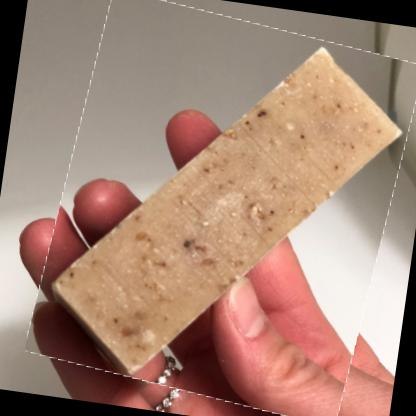soap: (28, 0, 415, 415)
